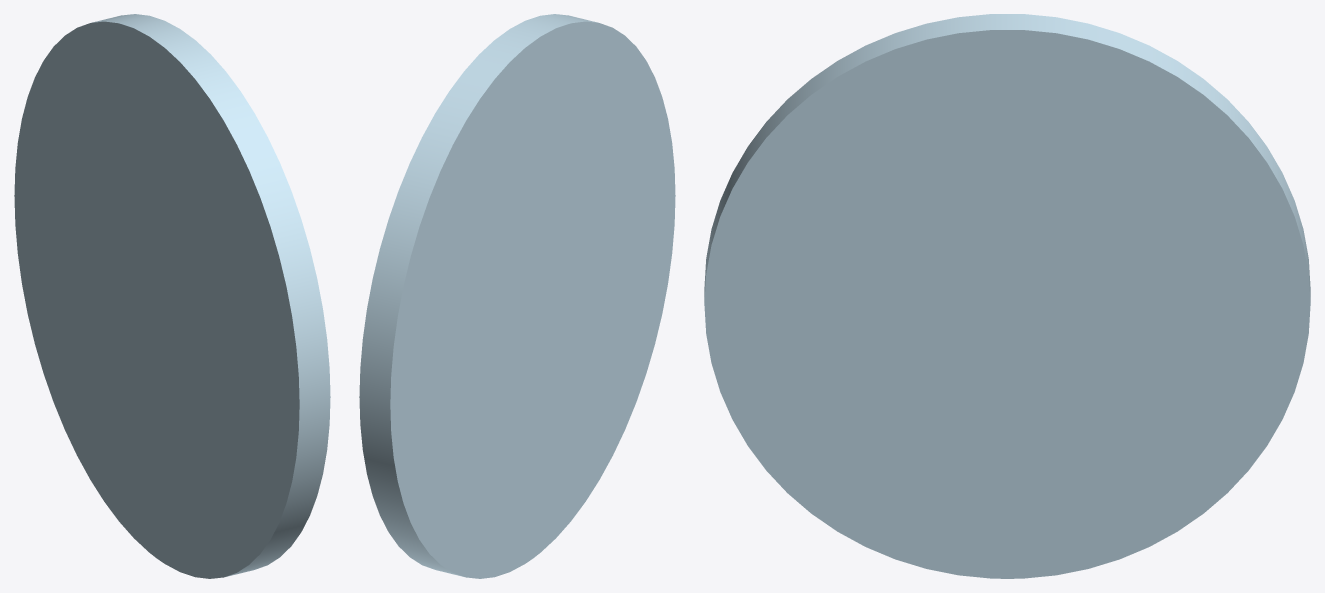
The picture shows the model from 3 angles, left to right: view 1: azimuth 30°, elevation 25°; view 2: azimuth 150°, elevation 25°; view 3: azimuth 270°, elevation 25°; orthographic projection. The views are drawn at different scales.
Visible parts, largest first — view 1: root_node; view 2: root_node; view 3: root_node.
Boxes of the visible parts, x1,y1,x2,y2 form: root_node: (14, 14, 330, 578); root_node: (359, 14, 675, 578); root_node: (704, 14, 1310, 578).
Size of the model in its own units: 0.005 by 0.0799 by 0.08.
